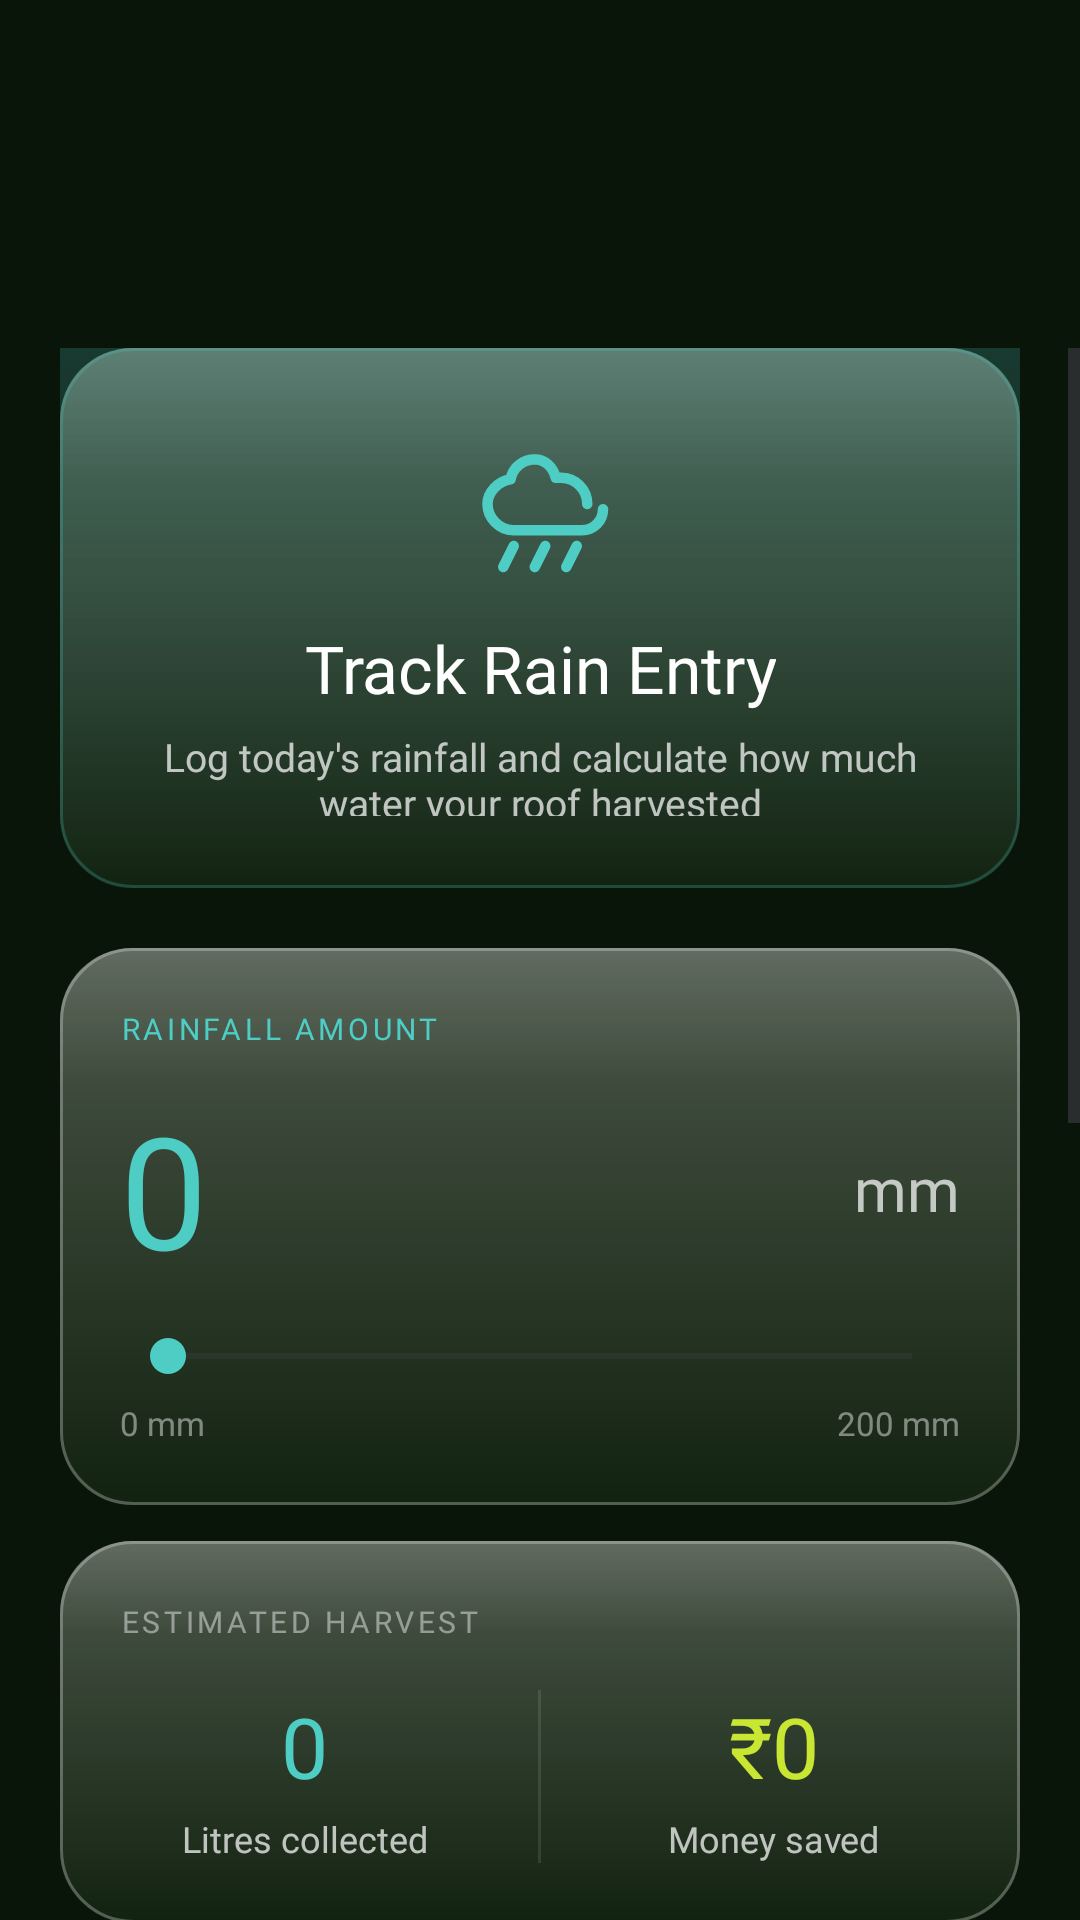

Where to tap for icons on this 1080x1920 app screen, as [x,y]:
cloud rain: [540,496]
